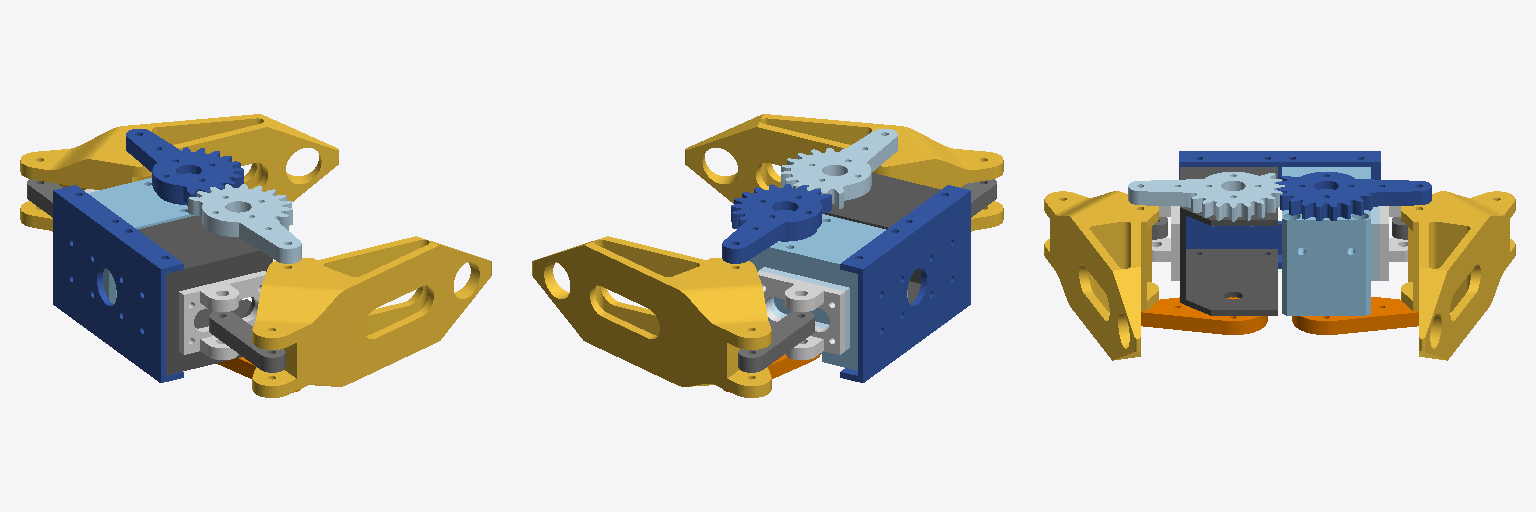
robot.urdf — parallel_link_gripper:
<robot name="parallel_link_gripper">
  <link name="base_link" />
  <joint name="base_link_to_base" type="fixed">
    <parent link="base_link" />
    <child link="body" />
    <origin rpy="0.0 0 0" xyz="0 0 0" />
  </joint>
  <link name="body">
    <visual>
      <origin xyz="0.002 2.84109e-20 -0.017" rpy="-9.02876e-31 -0 -6.57608e-32" />
      <geometry>
        <mesh filename="package://gripper_description/mesh/gripper_mount__list_gggmxkb4ygsnke_default.stl" />
      </geometry>
      <material name="gripper_mount__list_gggmxkb4ygsnke_default_material">
        <color rgba="0.231373 0.380392 0.705882 1.0" />
      </material>
    </visual>
    <collision>
      <origin xyz="0.0205 2.84109e-20 -6.93889e-18" rpy="-9.02876e-31 -0 -6.57608e-32" />
      <geometry>
        <box size="0.041 0.066 0.04" />
      </geometry>
    </collision>
    <collision>
      <origin xyz="0.045 2.84109e-20 -6.93889e-18" rpy="-9.02876e-31 -0 -6.57608e-32" />
      <geometry>
        <box size="0.008 0.056 0.04" />
      </geometry>
    </collision>
    <visual>
      <origin xyz="0.002 1.04368e-17 -0.017" rpy="2.28667e-16 3.14417e-16 -1.65045e-30" />
      <geometry>
        <mesh filename="package://gripper_description/mesh/gripper_x430_shell_rhs__list_gggmxkb4ygsnke_default.stl" />
      </geometry>
      <material name="gripper_x430_shell_rhs__list_gggmxkb4ygsnke_default_material">
        <color rgba="0.4 0.4 0.4 1.0" />
      </material>
    </visual>
    <visual>
      <origin xyz="0.002 1.73756e-17 -0.017" rpy="2.28667e-16 3.14417e-16 -1.65045e-30" />
      <geometry>
        <mesh filename="package://gripper_description/mesh/gripper_bracket_rhs__list_gggmxkb4ygsnke_default.stl" />
      </geometry>
      <material name="gripper_bracket_rhs__list_gggmxkb4ygsnke_default_material">
        <color rgba="0.917647 0.917647 0.917647 1.0" />
      </material>
    </visual>
    <collision>
      <origin xyz="0.0215 -0.034 0" rpy="2.28667e-16 3.14417e-16 -1.65045e-30" />
      <geometry>
        <box size="0.03 0.003 0.02" />
      </geometry>
    </collision>
    <collision>
      <origin xyz="0.0173 -0.04 0" rpy="2.28667e-16 3.14417e-16 -1.65045e-30" />
      <geometry>
        <cylinder length="0.02" radius="0.005" />
      </geometry>
    </collision>
    <visual>
      <origin xyz="0.03725 0.015 0.019" rpy="-4.91725e-16 1.9792e-14 -1.5708" />
      <geometry>
        <mesh filename="package://gripper_description/mesh/dynamixel_casing__list_ndk53xfpevccij_default.stl" />
      </geometry>
      <material name="dynamixel_casing__list_ndk53xfpevccij_default_material">
        <color rgba="0.615686 0.811765 0.929412 1.0" />
      </material>
    </visual>
    <visual>
      <origin xyz="0.002 0.0615 -0.017" rpy="2.28667e-16 3.71583e-16 7.45931e-17" />
      <geometry>
        <mesh filename="package://gripper_description/mesh/gripper_bracket_pad__list_gggmxkb4ygsnke_default.stl" />
      </geometry>
      <material name="gripper_bracket_pad__list_gggmxkb4ygsnke_default_material">
        <color rgba="0.768627 0.886275 0.952941 1.0" />
      </material>
    </visual>
    <collision>
      <origin xyz="0.0215 0.0307 3.46945e-17" rpy="2.28667e-16 3.71583e-16 7.45931e-17" />
      <geometry>
        <box size="0.03 0.003 0.02" />
      </geometry>
    </collision>
    <visual>
      <origin xyz="0.002 -1.8235e-17 0.017" rpy="-3.14159 3.14417e-16 5.37331e-16" />
      <geometry>
        <mesh filename="package://gripper_description/mesh/gripper_bracket_rhs__list_gggmxkb4ygsnke_default.stl" />
      </geometry>
      <material name="gripper_bracket_rhs__list_gggmxkb4ygsnke_default_material">
        <color rgba="0.917647 0.917647 0.917647 1.0" />
      </material>
    </visual>
    <collision>
      <origin xyz="0.0215 0.034 -1.25594e-15" rpy="-3.14159 3.14417e-16 5.37331e-16" />
      <geometry>
        <box size="0.03 0.003 0.02" />
      </geometry>
    </collision>
    <collision>
      <origin xyz="0.0173 0.04 -1.25247e-15" rpy="-3.14159 3.14417e-16 5.37331e-16" />
      <geometry>
        <cylinder length="0.02" radius="0.005" />
      </geometry>
    </collision>
    <inertial>
      <origin xyz="0.0224723 0.00874655 0.000222665" rpy="0 0 0" />
      <mass value="0.157422" />
      <inertia ixx="6.18655e-05" ixy="-4.90692e-06" ixz="1.13998e-08" iyy="5.05121e-05" iyz="-2.19198e-07" izz="7.60343e-05" />
    </inertial>
  </link>
  <link name="lhs_inner_beam">
    <visual>
      <origin xyz="6.93889e-18 0.015 -0.017" rpy="1.32156e-16 -3.87474e-17 3.14159" />
      <geometry>
        <mesh filename="package://gripper_description/mesh/rod_inner_lhs_top.stl" />
      </geometry>
      <material name="rod_inner_lhs_top_material">
        <color rgba="0.231373 0.380392 0.705882 1.0" />
      </material>
    </visual>
    <collision>
      <origin xyz="4.02496e-18 1.73472e-18 0.0045" rpy="1.32156e-16 -3.87474e-17 3.14159" />
      <geometry>
        <cylinder length="0.005" radius="0.013" />
      </geometry>
    </collision>
    <collision>
      <origin xyz="-3.46542e-19 -0.0175 0.0045" rpy="1.32156e-16 -3.87474e-17 3.14159" />
      <geometry>
        <box size="0.01 0.035 0.005" />
      </geometry>
    </collision>
    <visual>
      <origin xyz="1.38778e-17 0.015 -0.024" rpy="-1.46561e-16 3.87474e-17 -3.60822e-16" />
      <geometry>
        <mesh filename="package://gripper_description/mesh/rod_inner_bottom.stl" />
      </geometry>
      <material name="rod_inner_bottom_material">
        <color rgba="0.972549 0.529412 0.00392157 1.0" />
      </material>
    </visual>
    <collision>
      <origin xyz="6.67789e-19 -0.02 -0.039" rpy="-1.46561e-16 3.87474e-17 -3.60822e-16" />
      <geometry>
        <box size="0.012 0.028 0.005" />
      </geometry>
    </collision>
    <collision>
      <origin xyz="7.88424e-18 -6.93889e-18 -0.039" rpy="1.46561e-16 3.87474e-17 -3.60822e-16" />
      <geometry>
        <cylinder length="0.005" radius="0.011" />
      </geometry>
    </collision>
    <visual>
      <origin xyz="0 0 0.002" rpy="0 -0 -6.69627e-30" />
      <geometry>
        <mesh filename="package://gripper_description/mesh/dynamixel_horn__list_ndk53xfpevccij_default.stl" />
      </geometry>
      <material name="dynamixel_horn__list_ndk53xfpevccij_default_material">
        <color rgba="0.231373 0.380392 0.705882 1.0" />
      </material>
    </visual>
    <inertial>
      <origin xyz="-0.000749317 -0.00574927 -0.0125514" rpy="0 0 0" />
      <mass value="0.008336" />
      <inertia ixx="4.60867e-06" ixy="3.14257e-08" ixz="1.06508e-07" iyy="3.7668e-06" iyz="-4.42417e-07" izz="1.36028e-06" />
    </inertial>
  </link>
  <link name="lhs_claw">
    <visual>
      <origin xyz="0 -0.006 0" rpy="1.47538e-30 1.79172e-32 -1.1553e-30" />
      <geometry>
        <mesh filename="package://gripper_description/mesh/jaw_plate.stl" />
      </geometry>
      <material name="jaw_plate_material">
        <color rgba="0.980392 0.796078 0.262745 1.0" />
      </material>
    </visual>
    <collision>
      <origin xyz="0 -0.006 0" rpy="1.47538e-30 1.79172e-32 -1.1553e-30" />
      <geometry>
        <mesh filename="package://gripper_description/mesh/jaw_plate.stl" />
      </geometry>
      <material name="jaw_plate_material">
        <color rgba="0.980392 0.796078 0.262745 1.0" />
      </material>
    </collision>
    <inertial>
      <origin xyz="0.0084421 0.011184 -7.65795e-10" rpy="0 0 0" />
      <mass value="0.0692262" />
      <inertia ixx="1.03939e-05" ixy="5.20676e-06" ixz="-7.28803e-12" iyy="3.49184e-05" iyz="1.63365e-11" izz="3.29754e-05" />
    </inertial>
  </link>
  <joint name="lhs_j3" type="continuous">
    <origin xyz="0 -0.03 -0.017" rpy="-1.3685e-16 3.07629e-16 3.14159" />
    <parent link="lhs_inner_beam" />
    <child link="lhs_claw" />
    <axis xyz="0 0 1" />
    <limit effort="1" velocity="20" />
    <joint_properties friction="0.0" />
    <mimic joint="lhs_j1" multiplier="-1" offset="0" />
  </joint>
  <joint name="lhs_j1" type="revolute">
    <origin xyz="0.03725 0.015 0.017" rpy="-1.9792e-14 -3.38332e-16 -3.14159" />
    <parent link="body" />
    <child link="lhs_inner_beam" />
    <axis xyz="0 0 1" />
    <limit effort="1" velocity="20" lower="-1.5708" upper="0.15708" />
    <joint_properties friction="0.0" />
  </joint>
  <link name="lhs_outer_beam">
    <visual>
      <origin xyz="0.02 0.025 0.0025" rpy="-3.14159 -2.21087e-32 2.27933e-29" />
      <geometry>
        <mesh filename="package://gripper_description/mesh/rod_outer.stl" />
      </geometry>
      <material name="rod_outer_material">
        <color rgba="0.498039 0.498039 0.498039 1.0" />
      </material>
    </visual>
    <collision>
      <origin xyz="0 -0.015 0" rpy="-3.14159 -2.21087e-32 2.27933e-29" />
      <geometry>
        <box size="0.01 0.038 0.005" />
      </geometry>
    </collision>
    <inertial>
      <origin xyz="-6.93889e-18 -0.015 0" rpy="0 0 0" />
      <mass value="0.00147516" />
      <inertia ixx="1.60126e-07" ixy="3.65727e-36" ixz="1.14731e-38" iyy="1.08435e-08" iyz="4.82529e-37" izz="1.64823e-07" />
    </inertial>
  </link>
  <joint name="lhs_j2" type="continuous">
    <origin xyz="0.01725 0.04 -1.25421e-15" rpy="-3.14159 -6.16349e-16 5.9816e-13" />
    <parent link="body" />
    <child link="lhs_outer_beam" />
    <axis xyz="0 0 1" />
    <limit effort="1" velocity="20" />
    <joint_properties friction="0.0" />
    <mimic joint="lhs_j1" multiplier="-1" offset="0" />
  </joint>
  <link name="rhs_inner_beam">
    <visual>
      <origin xyz="-0.015 6.93889e-18 -3.46945e-18" rpy="0 -4.93038e-32 1.5708" />
      <geometry>
        <mesh filename="package://gripper_description/mesh/rod_inner_rhs_top.stl" />
      </geometry>
      <material name="rod_inner_rhs_top_material">
        <color rgba="0.768627 0.886275 0.952941 1.0" />
      </material>
    </visual>
    <collision>
      <origin xyz="1.73472e-18 6.93889e-18 0.0215" rpy="0 -4.93038e-32 1.5708" />
      <geometry>
        <cylinder length="0.005" radius="0.013" />
      </geometry>
    </collision>
    <collision>
      <origin xyz="0.0175 6.93889e-18 0.0215" rpy="0 -4.93038e-32 1.5708" />
      <geometry>
        <box size="0.01 0.035 0.005" />
      </geometry>
    </collision>
    <visual>
      <origin xyz="-0.015 6.93889e-18 -0.007" rpy="1.957e-17 2.77556e-17 1.5708" />
      <geometry>
        <mesh filename="package://gripper_description/mesh/rod_inner_bottom.stl" />
      </geometry>
      <material name="rod_inner_bottom_material">
        <color rgba="0.972549 0.529412 0.00392157 1.0" />
      </material>
    </visual>
    <collision>
      <origin xyz="0.02 6.93889e-19 -0.022" rpy="1.957e-17 2.77556e-17 1.5708" />
      <geometry>
        <box size="0.012 0.028 0.005" />
      </geometry>
    </collision>
    <collision>
      <origin xyz="1.73472e-18 4.02456e-18 -0.022" rpy="-1.957e-17 2.77556e-17 1.5708" />
      <geometry>
        <cylinder length="0.005" radius="0.011" />
      </geometry>
    </collision>
    <inertial>
      <origin xyz="0.00698021 0.00083018 0.00134512" rpy="0 0 0" />
      <mass value="0.00680759" />
      <inertia ixx="3.37282e-06" ixy="3.22003e-08" ixz="3.01896e-07" iyy="4.15872e-06" iyz="-1.13906e-07" izz="1.2342e-06" />
    </inertial>
  </link>
  <link name="rhs_claw">
    <visual>
      <origin xyz="0 -0.006 3.08149e-33" rpy="0 -0 -1.48493e-31" />
      <geometry>
        <mesh filename="package://gripper_description/mesh/jaw_plate.stl" />
      </geometry>
      <material name="jaw_plate_material">
        <color rgba="0.980392 0.796078 0.262745 1.0" />
      </material>
    </visual>
    <collision>
      <origin xyz="0 -0.006 3.08149e-33" rpy="0 -0 -1.48493e-31" />
      <geometry>
        <mesh filename="package://gripper_description/mesh/jaw_plate.stl" />
      </geometry>
      <material name="jaw_plate_material">
        <color rgba="0.980392 0.796078 0.262745 1.0" />
      </material>
    </collision>
    <inertial>
      <origin xyz="0.0084421 0.011184 -7.65795e-10" rpy="0 0 0" />
      <mass value="0.0692262" />
      <inertia ixx="1.03939e-05" ixy="5.20676e-06" ixz="-7.28803e-12" iyy="3.49184e-05" iyz="1.63365e-11" izz="3.29754e-05" />
    </inertial>
  </link>
  <joint name="rhs_j3" type="continuous">
    <origin xyz="0.03 1.38778e-17 -3.46945e-18" rpy="-3.14159 -8.55478e-24 1.5708" />
    <parent link="rhs_inner_beam" />
    <child link="rhs_claw" />
    <axis xyz="0 0 1" />
    <limit effort="1" velocity="20" />
    <joint_properties friction="0.0" />
    <mimic joint="lhs_j1" multiplier="-1" offset="0" />
  </joint>
  <joint name="rhs_j1" type="continuous">
    <origin xyz="0.03725 -0.015 -1.6679e-19" rpy="-3.14417e-16 2.28667e-16 -1.5708" />
    <parent link="body" />
    <child link="rhs_inner_beam" />
    <axis xyz="0 0 1" />
    <limit effort="1" velocity="20" lower="-0.174533" upper="1.5708" />
    <joint_properties friction="0.0" />
    <mimic joint="lhs_j1" multiplier="-1" offset="0" />
  </joint>
  <link name="rhs_outer_beam">
    <visual>
      <origin xyz="0.02 0.055 0.0025" rpy="3.14159 3.28171e-31 -3.02638e-31" />
      <geometry>
        <mesh filename="package://gripper_description/mesh/rod_outer.stl" />
      </geometry>
      <material name="rod_outer_material">
        <color rgba="0.498039 0.498039 0.498039 1.0" />
      </material>
    </visual>
    <collision>
      <origin xyz="1.38778e-17 0.015 4.33681e-19" rpy="3.14159 3.28171e-31 -3.02638e-31" />
      <geometry>
        <box size="0.01 0.038 0.005" />
      </geometry>
    </collision>
    <inertial>
      <origin xyz="6.93889e-18 0.015 4.33681e-19" rpy="0 0 0" />
      <mass value="0.00147516" />
      <inertia ixx="1.60126e-07" ixy="-6.53221e-38" ixz="-5.53436e-38" iyy="1.08435e-08" iyz="-7.06994e-39" izz="1.64823e-07" />
    </inertial>
  </link>
  <joint name="rhs_j2" type="continuous">
    <origin xyz="0.01725 -0.04 0" rpy="-3.14159 -4.12648e-15 5.65242e-14" />
    <parent link="body" />
    <child link="rhs_outer_beam" />
    <axis xyz="0 0 1" />
    <limit effort="1" velocity="20" />
    <joint_properties friction="0.0" />
    <mimic joint="lhs_j1" multiplier="1" offset="0" />
  </joint>
</robot>

--- What the picture shows (computed from the rendered views, not written in the file) ---
The picture shows the robot from 3 angles, left to right: view 1: azimuth 30°, elevation 25°; view 2: azimuth 150°, elevation 25°; view 3: azimuth 270°, elevation 25°; orthographic projection.
Robot: parallel_link_gripper — 8 links, 7 joints (1 revolute, 5 continuous, 1 fixed); root link base_link; default pose: every joint at zero.
Links seen in each view (by area): view 1: body, rhs_claw, lhs_claw, rhs_inner_beam, lhs_inner_beam, rhs_outer_beam, lhs_outer_beam; view 2: body, lhs_claw, rhs_claw, lhs_inner_beam, rhs_inner_beam, lhs_outer_beam, rhs_outer_beam; view 3: body, lhs_claw, rhs_claw, rhs_inner_beam, lhs_inner_beam.
Link boxes in pixels (x1,y1,x2,y2): body: (53, 178, 272, 382); rhs_claw: (252, 236, 491, 397); lhs_claw: (20, 114, 338, 231); rhs_inner_beam: (188, 184, 301, 392); lhs_inner_beam: (126, 129, 243, 205); rhs_outer_beam: (209, 311, 285, 372); lhs_outer_beam: (27, 179, 62, 217); body: (748, 173, 970, 382); lhs_claw: (532, 236, 771, 397); rhs_claw: (685, 114, 1003, 231); lhs_inner_beam: (722, 184, 831, 392); rhs_inner_beam: (781, 129, 897, 208); lhs_outer_beam: (738, 311, 814, 372); rhs_outer_beam: (961, 179, 996, 217); body: (1152, 151, 1407, 315); lhs_claw: (1401, 191, 1515, 360); rhs_claw: (1044, 191, 1158, 360); rhs_inner_beam: (1128, 172, 1284, 334); lhs_inner_beam: (1276, 172, 1431, 334).
Bounding box of the posed robot: 0.1073 × 0.152 × 0.048 m (x, y, z).
15 mesh visuals loaded from 11 distinct referenced files (11 binary STL).